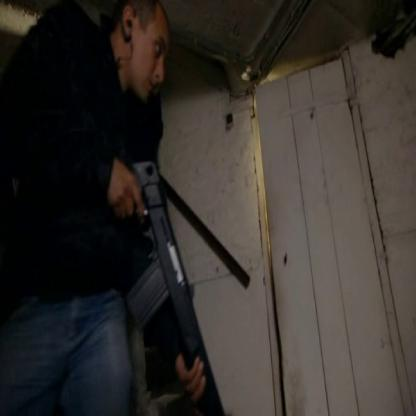Guns: (118, 157, 219, 415)
